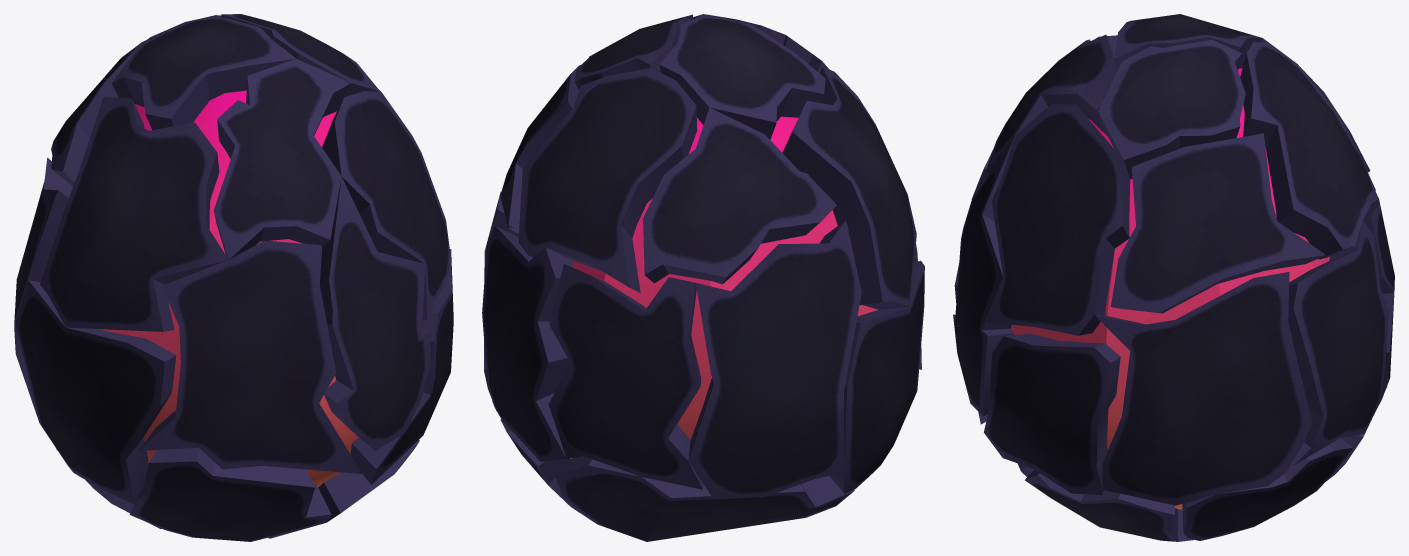
The model's file is hackeregg2.fbx.
3 views of the same model, side by side, from view 1: azimuth 30°, elevation 25°; view 2: azimuth 150°, elevation 25°; view 3: azimuth 270°, elevation 25° (orthographic).
Visible parts, largest first — view 1: eggsPack.002; view 2: eggsPack.002; view 3: eggsPack.002.
Part boxes in pixels (bbox=[...]): eggsPack.002: bbox=[14, 14, 453, 541]; eggsPack.002: bbox=[482, 14, 924, 541]; eggsPack.002: bbox=[953, 14, 1394, 541].
Size of the model in its own units: 607 by 742 by 610.
